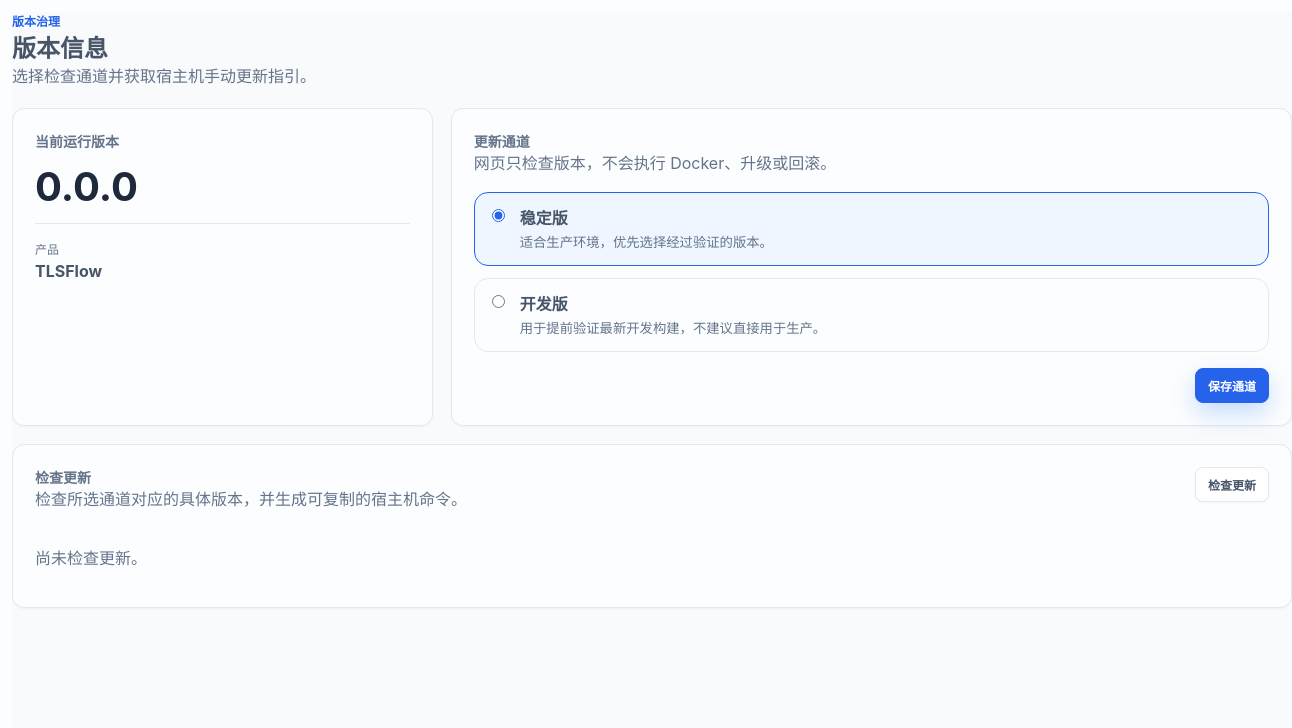
VersionView › 支持选择通道、检查更新，并只展示宿主机手动命令
Click the radio button labelled "开发版 用于提前验证最新开发构建，不建议直接用于生产。". click: (498, 302)
box: [492, 295, 505, 308]
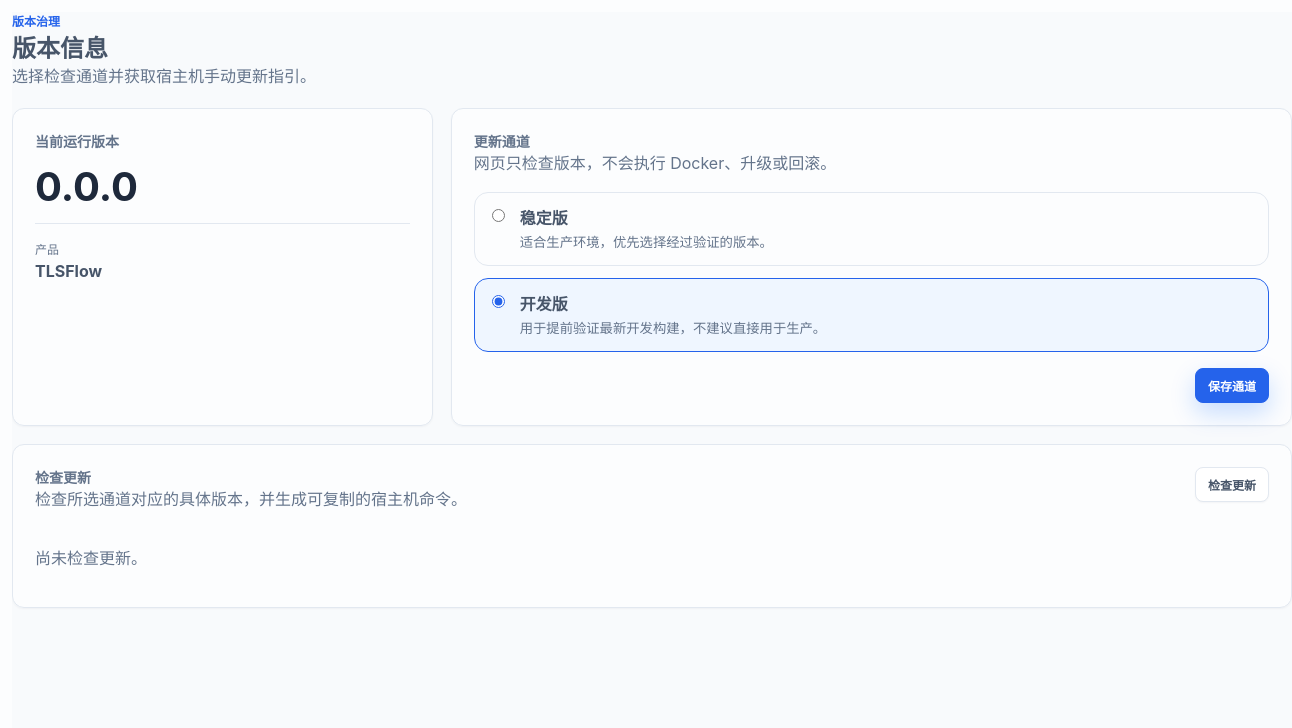
Submit the form, box [451, 108, 1291, 426]
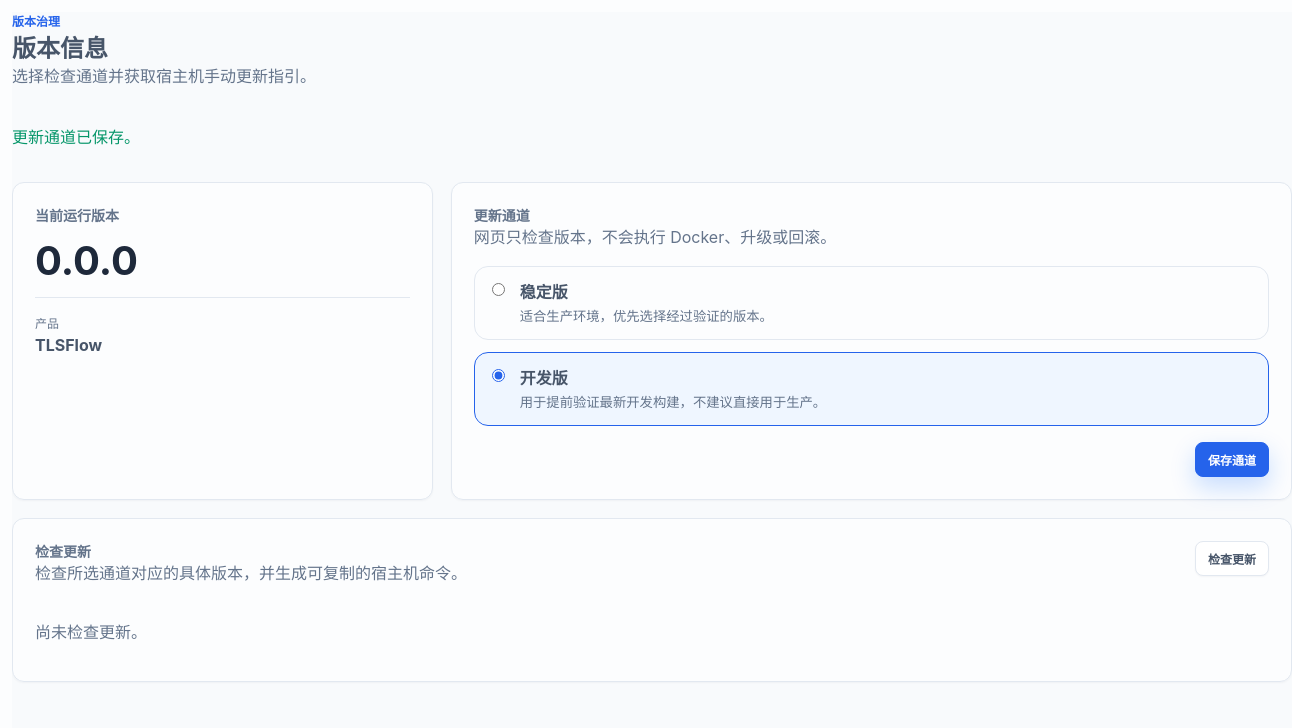
Click the button "检查更新". click: (1232, 559)
box: [1195, 541, 1269, 576]
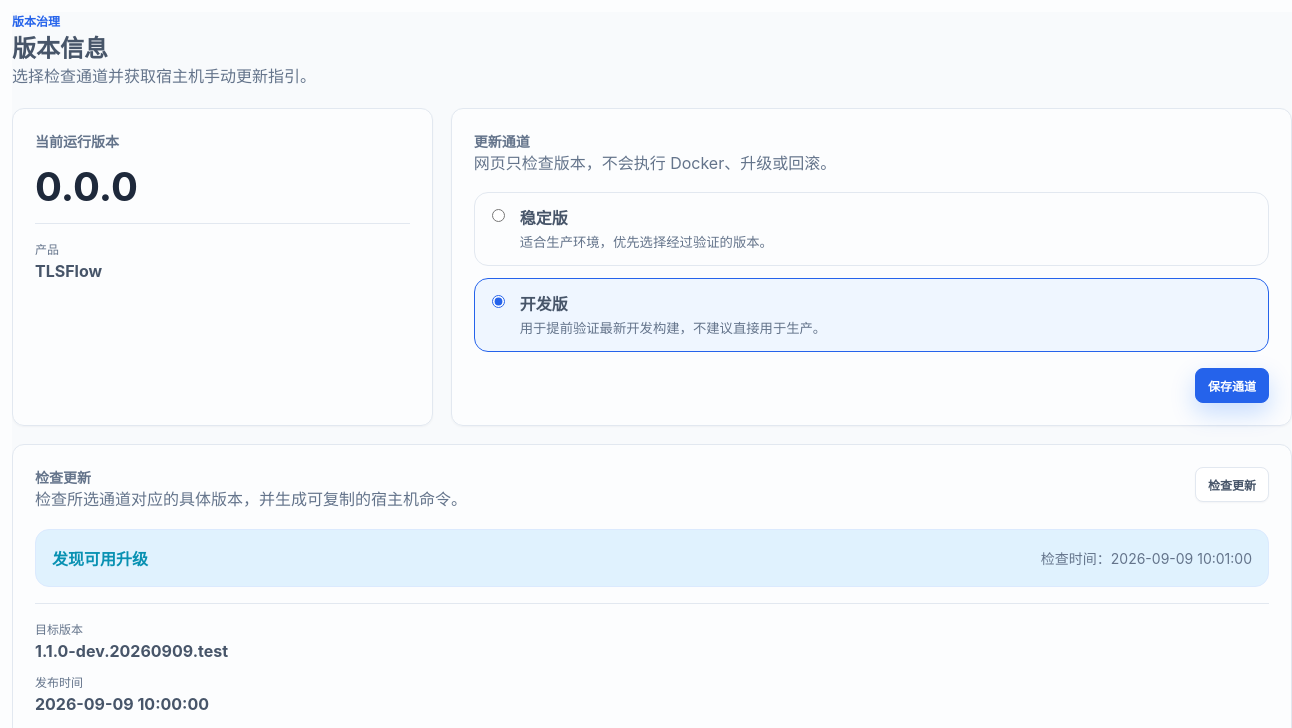
Expected: the text "1.1.0-dev.20260909.test" is shown, [35, 641, 228, 661]
